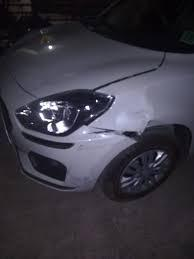front-bumper-dent: (62, 120, 149, 198)
